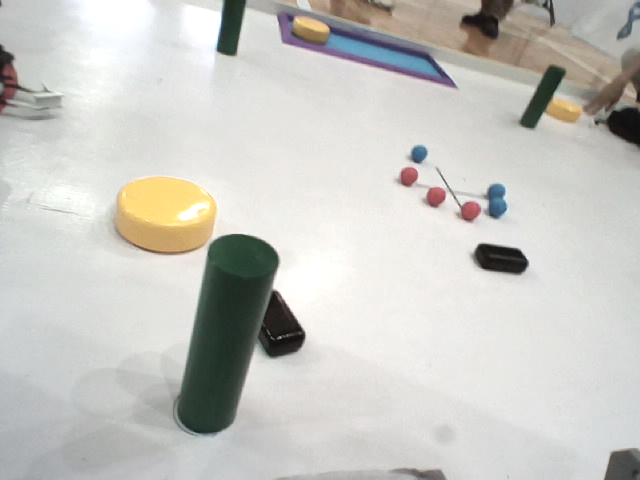black: (258, 273, 308, 373), (445, 239, 550, 285)
blue: (405, 139, 436, 164), (486, 174, 511, 202), (485, 196, 510, 218)
kuang: (273, 14, 462, 100)
red: (391, 162, 423, 191), (422, 183, 448, 207), (461, 200, 482, 222)
yellow: (106, 166, 232, 252), (529, 95, 593, 131), (289, 15, 337, 43)
zhuzi: (190, 236, 276, 449), (517, 62, 567, 136), (201, 1, 261, 57)
